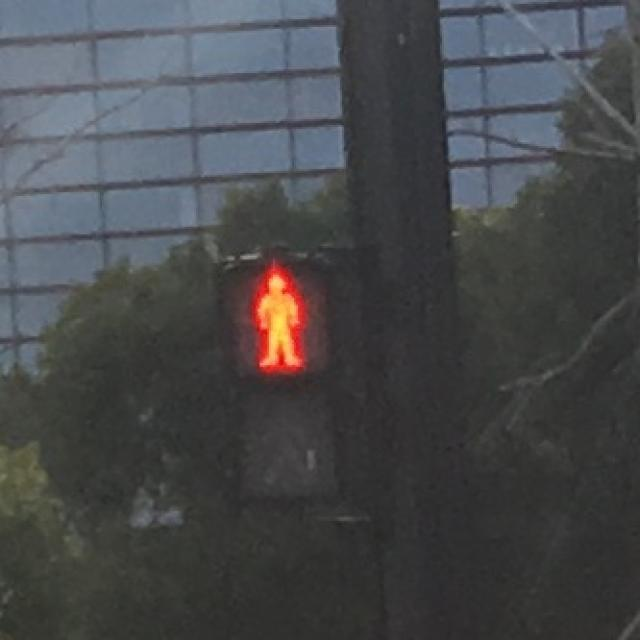red-crossing: (221, 260, 331, 376)
